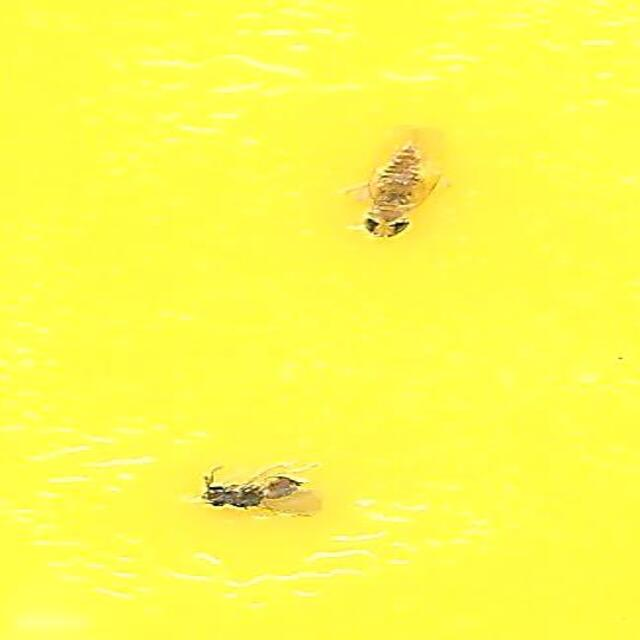Hemiptera: (352, 119, 444, 236)
Nematocera: (196, 459, 329, 521)
